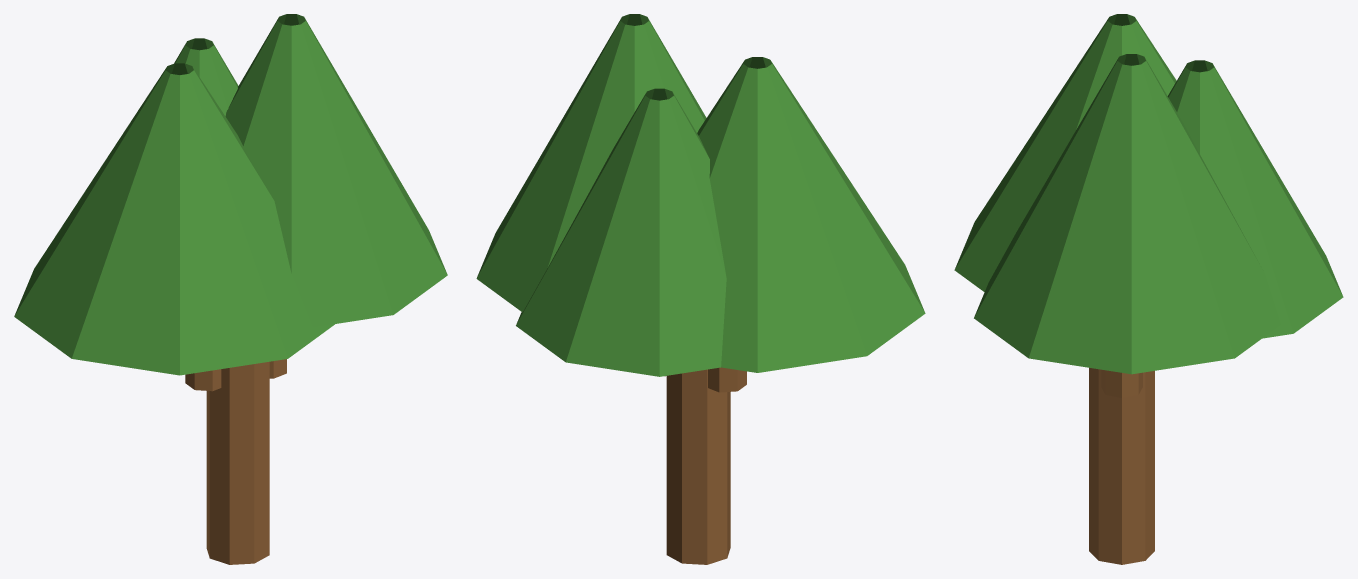
The model's file is arbol_bosque2.fbx.
3 views of the same model, side by side, from view 1: azimuth 30°, elevation 25°; view 2: azimuth 150°, elevation 25°; view 3: azimuth 270°, elevation 25° (orthographic).
Visible parts, largest first — view 1: Arbol_Bosque_02_Copa, Arbol_Bosque_02_Tronco; view 2: Arbol_Bosque_02_Copa, Arbol_Bosque_02_Tronco; view 3: Arbol_Bosque_02_Copa, Arbol_Bosque_02_Tronco.
Part boxes in pixels (x1=…): Arbol_Bosque_02_Copa: x1=14, y1=14, x2=447, y2=375; Arbol_Bosque_02_Tronco: x1=185, y1=359, x2=286, y2=564; Arbol_Bosque_02_Copa: x1=476, y1=14, x2=925, y2=376; Arbol_Bosque_02_Tronco: x1=665, y1=367, x2=746, y2=564; Arbol_Bosque_02_Copa: x1=954, y1=14, x2=1343, y2=374; Arbol_Bosque_02_Tronco: x1=1089, y1=368, x2=1154, y2=564.
Size of the model in its own units: 469 by 590 by 400.
